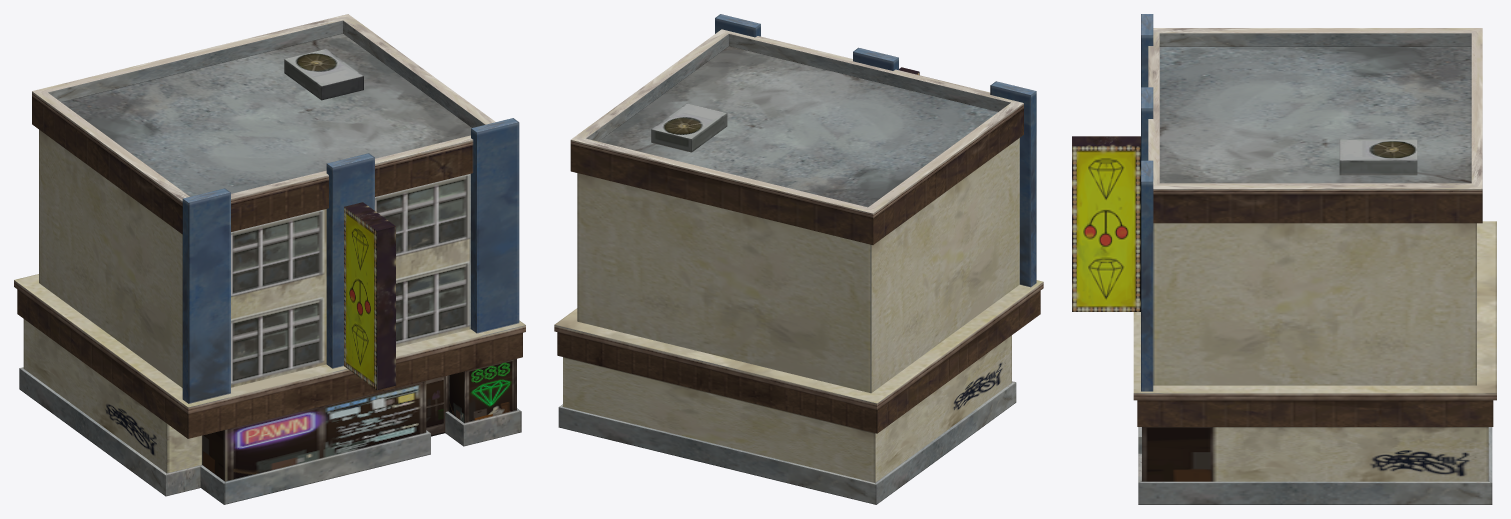
Rendered from pawn.glb.
3 renders of one model, left to right at view 1: azimuth 30°, elevation 25°; view 2: azimuth 150°, elevation 25°; view 3: azimuth 270°, elevation 25°, orthographic. The views are drawn at different scales.
Visible parts, largest first — view 1: pawn; view 2: pawn; view 3: pawn.
Part boxes in pixels (left/top/right/bottom): pawn: left=14, top=14, right=525, bottom=504; pawn: left=554, top=14, right=1043, bottom=504; pawn: left=1072, top=14, right=1496, bottom=504.
Bounding box in the file's own units: 17.57 × 15.38 × 18.37.
1 material, 1 textured.
